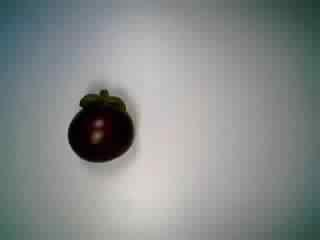mangosteen: (60, 86, 137, 163)
